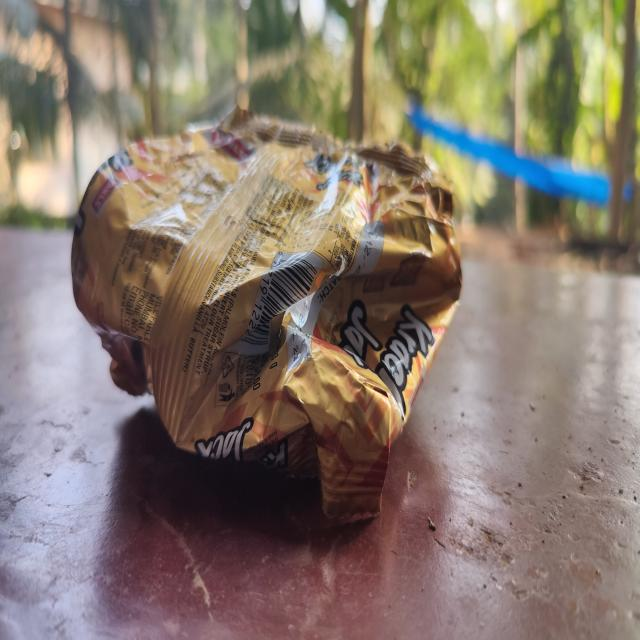plastic: (69, 104, 466, 528)
